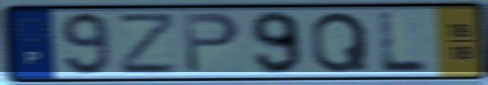9: (247, 9, 306, 77), (57, 10, 114, 78)
L: (377, 9, 433, 74)
P: (180, 10, 243, 75)
Q: (309, 10, 372, 75)
Z: (115, 11, 180, 76)
